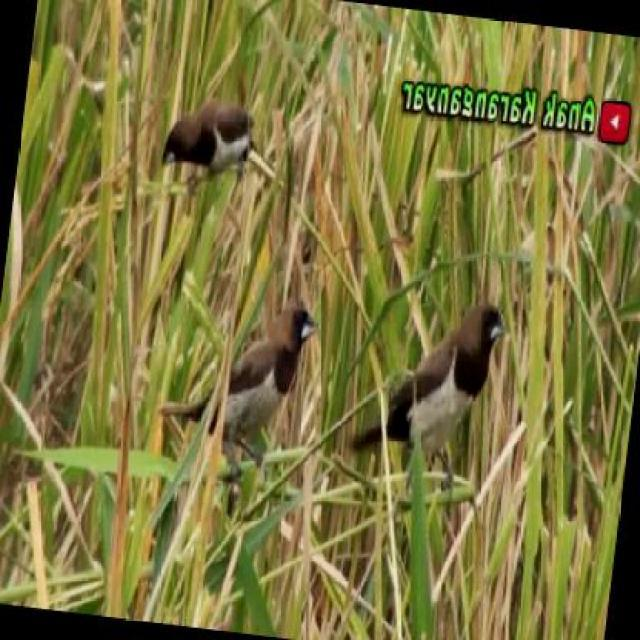Bird: (339, 300, 517, 506), (155, 295, 327, 499), (157, 89, 282, 200)
